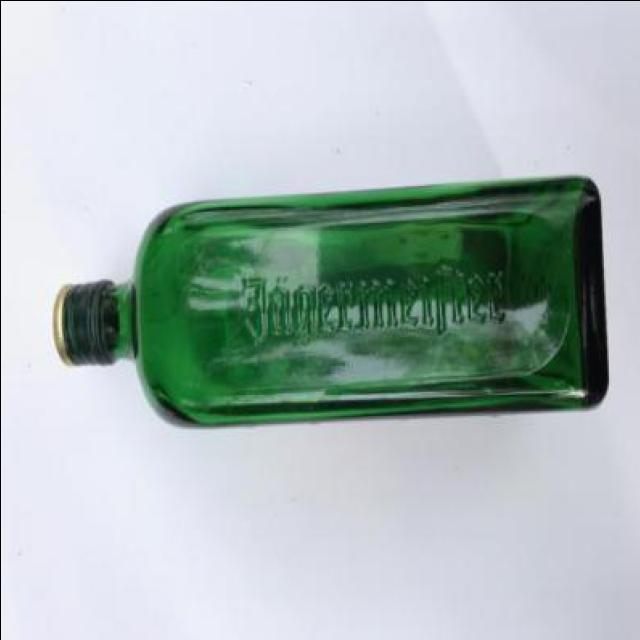kaca: (62, 175, 608, 426)
